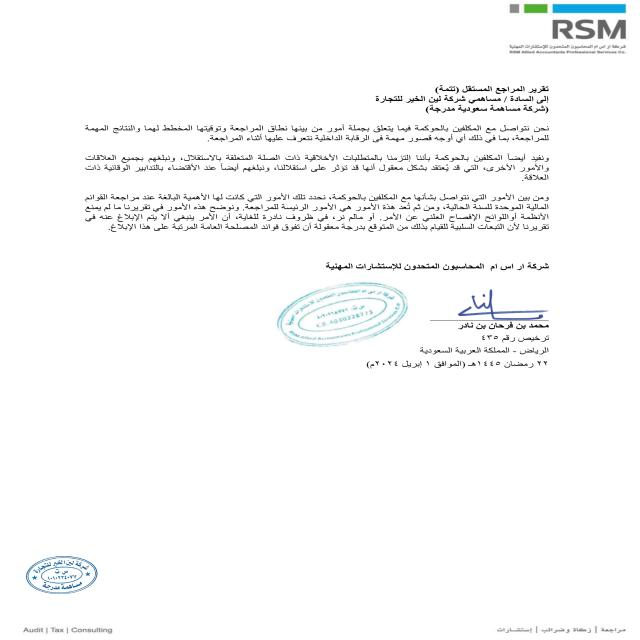auditor_report: (413, 83, 555, 95)
